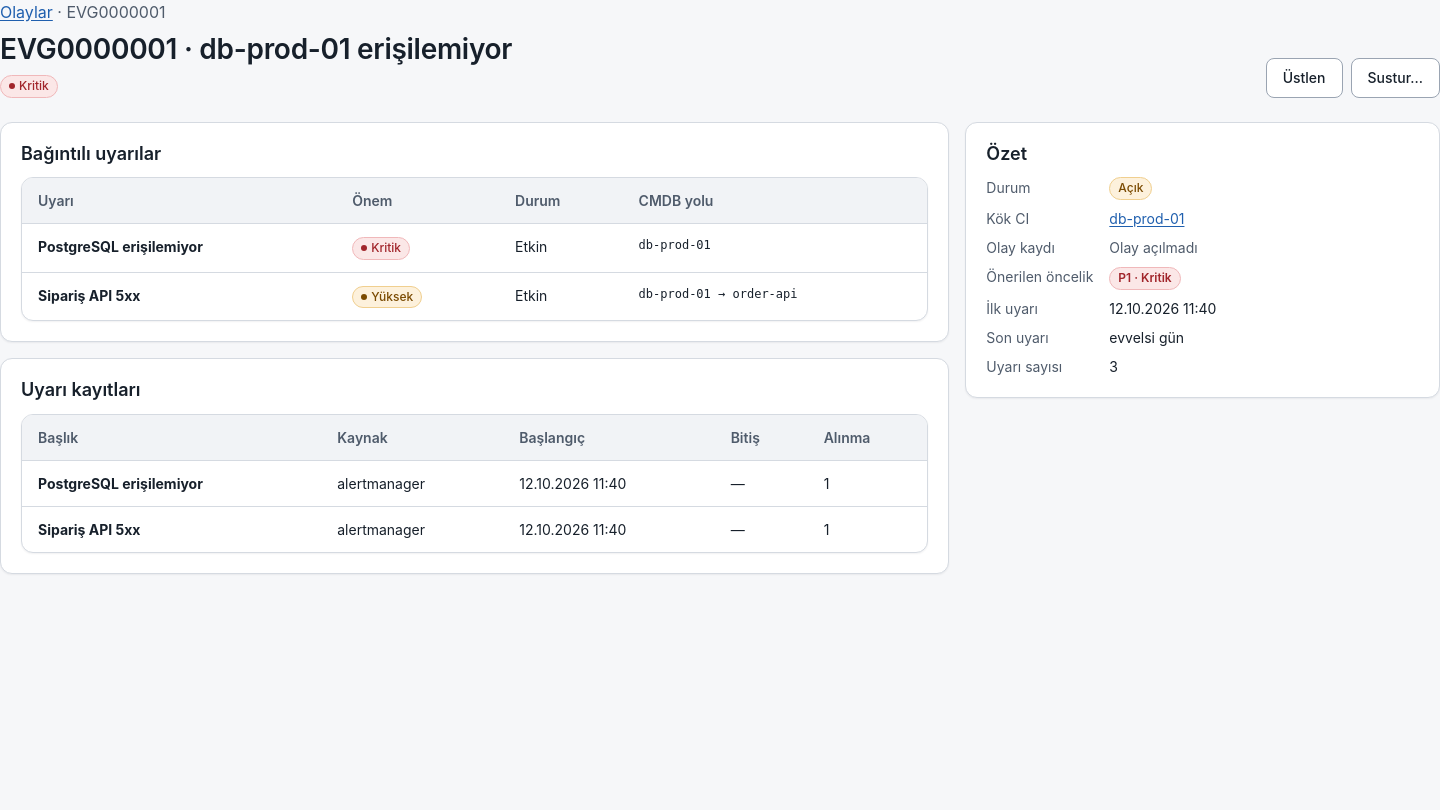
Test: EventGroupDetailPage (/olaylar/:id) › sustur: gerekçe zorunlu; R2 → onay bekliyor durumu (grup susturulmaz)
The width and height of the screenshot is (1440, 810).
Click the button "Sustur…". click: (1395, 78)
box: [1350,58,1439,98]
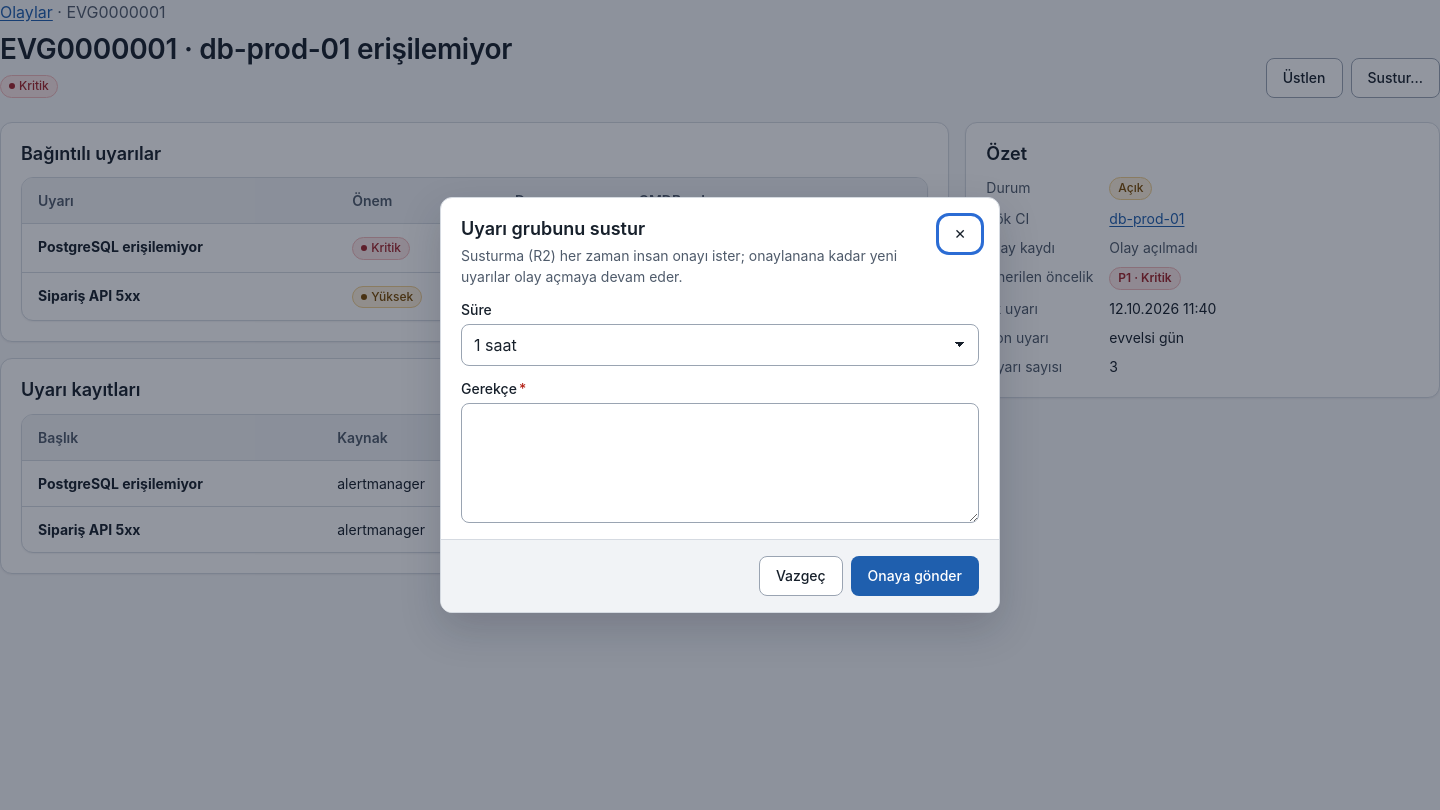
Click the button "Onaya gönder". click: (915, 576)
box: [851,556,979,596]
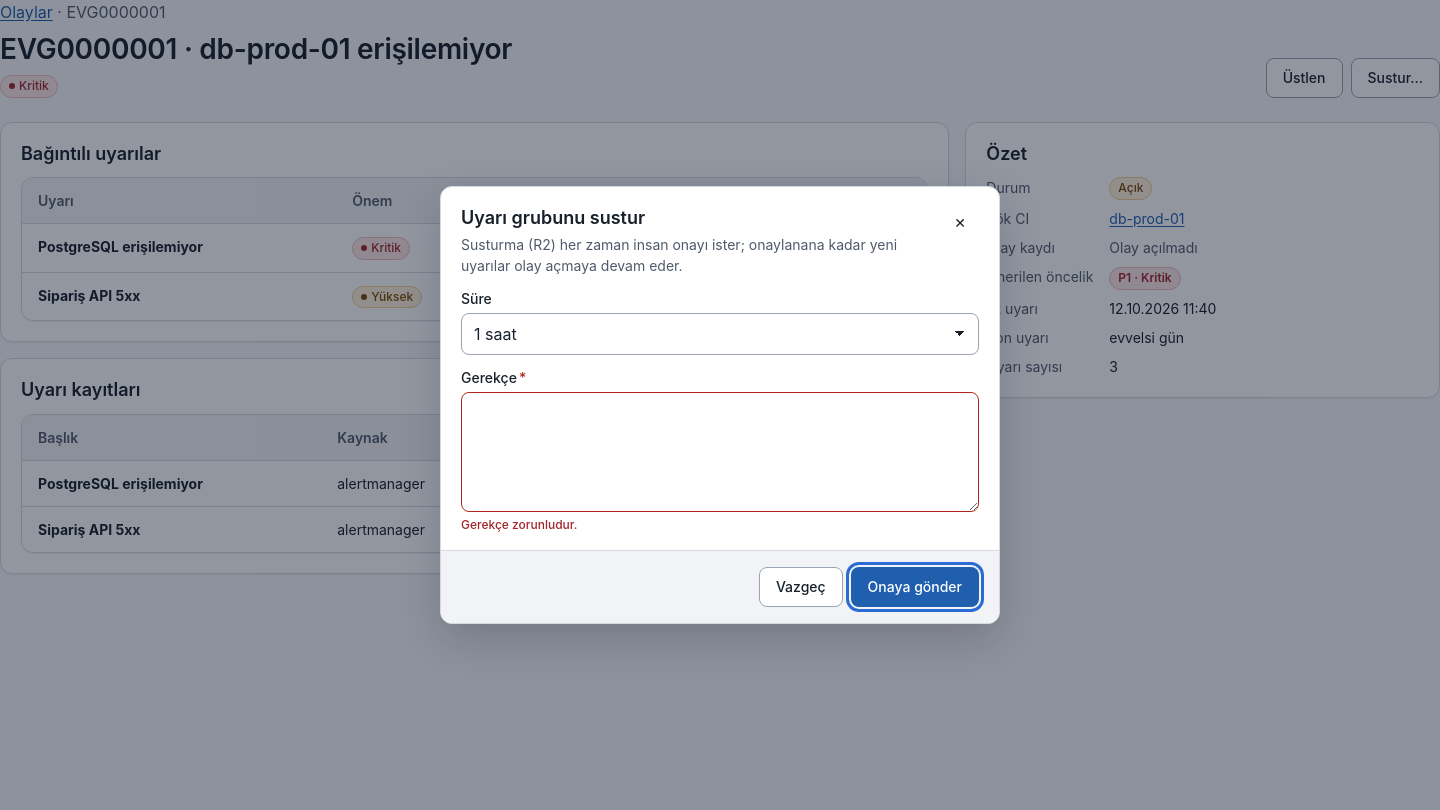
Expected: the text "Gerekçe zorunludur." is shown, [461,517,577,532]
Select "4 saat" in the dropdown labelled "Süre". click: (720, 334)
box: [461,313,979,355]
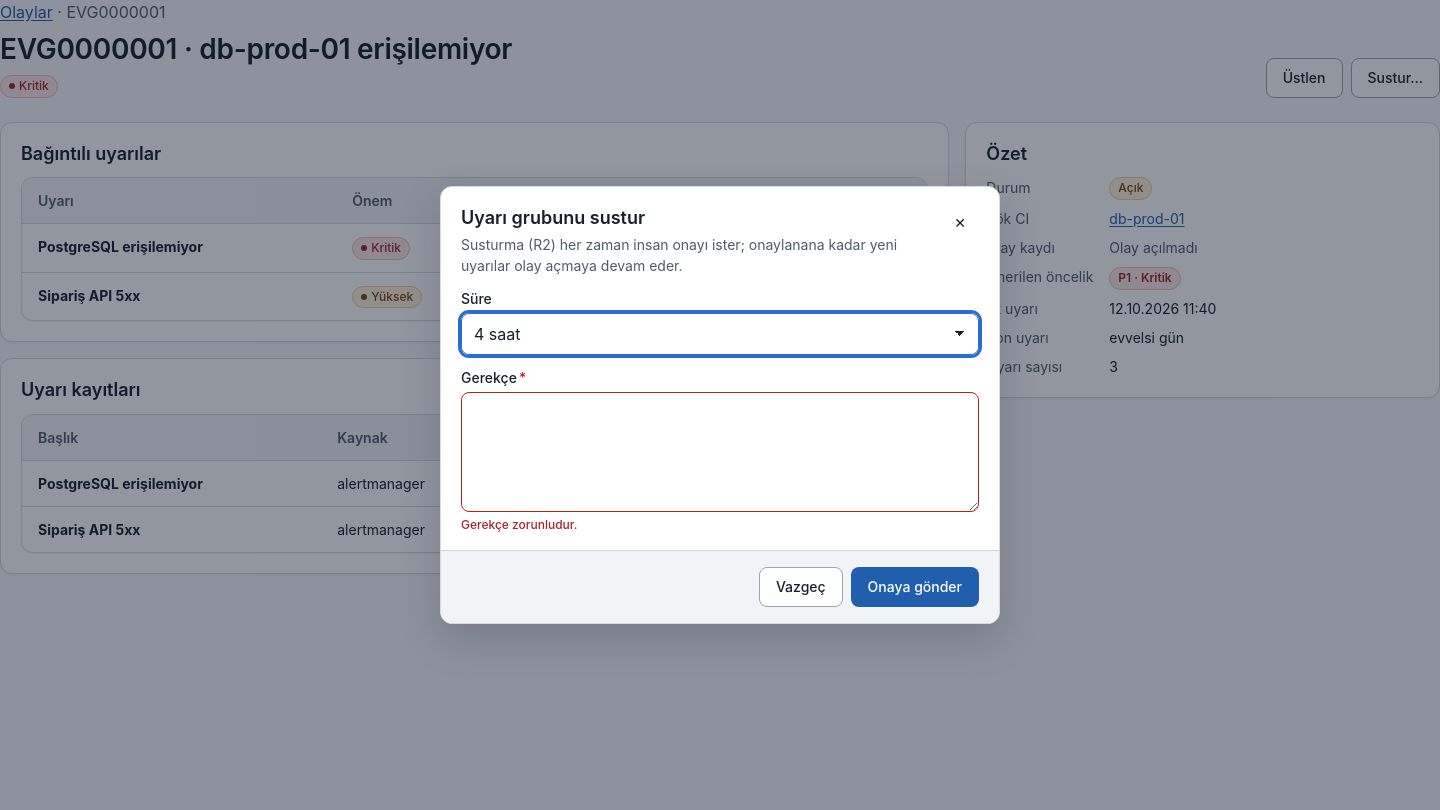
Type "Bakım penceresi" into the text box labelled "Gerekçe*". click: (720, 452)
box: [461,392,979,512]
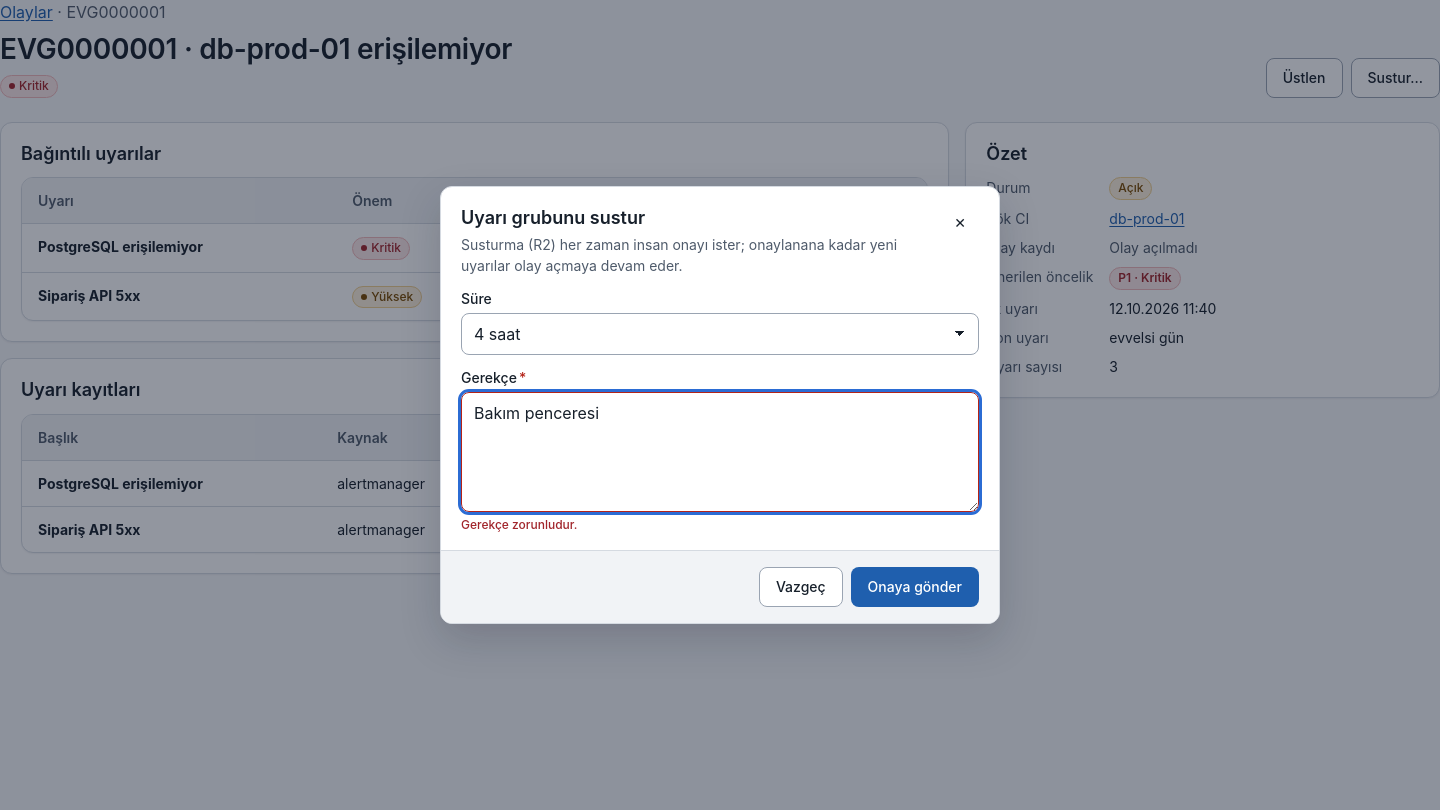
Click the button "Onaya gönder". click: (915, 587)
box: [851,567,979,607]
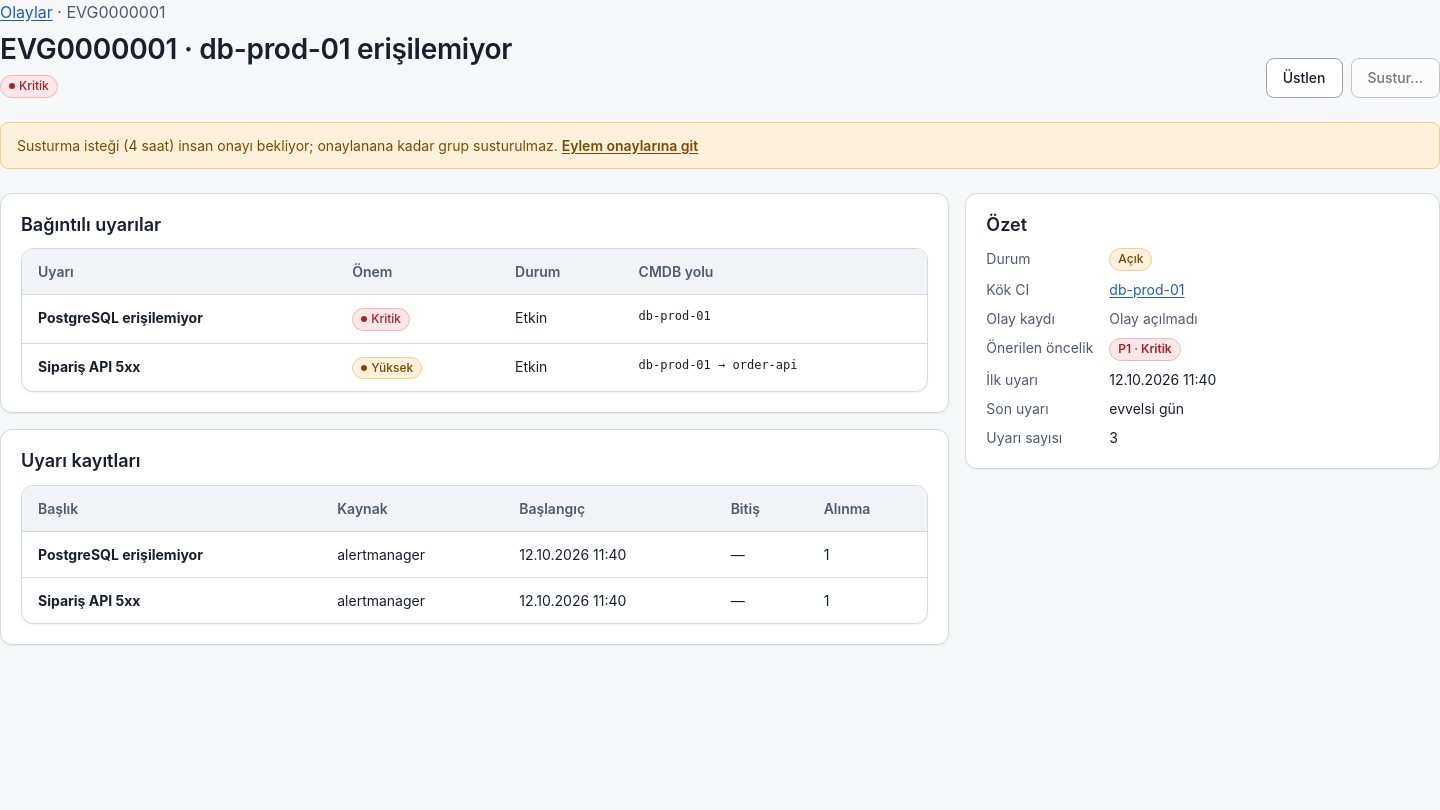
Expected: the message named "Susturma onay bekliyor" shows "4 saat", [128,137,169,154]
Expected: the button "Sustur…" is disabled, [1350,58,1439,98]
